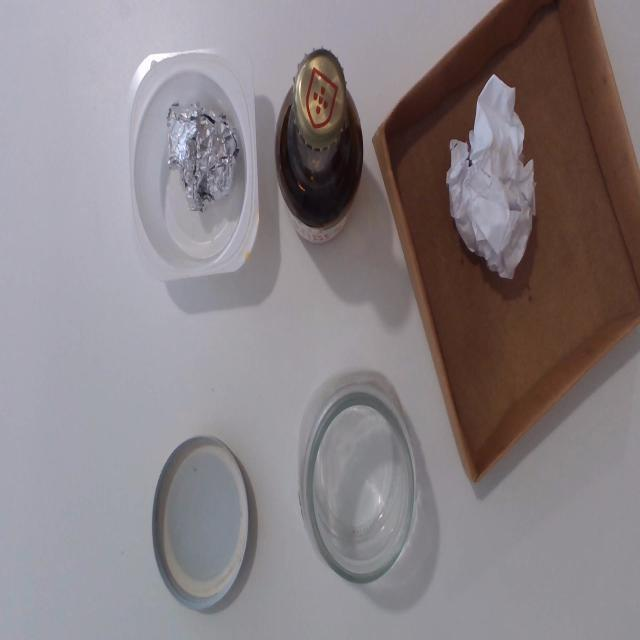Glass: (295, 363, 419, 595), (277, 38, 364, 252)
Paper: (450, 73, 532, 280)
